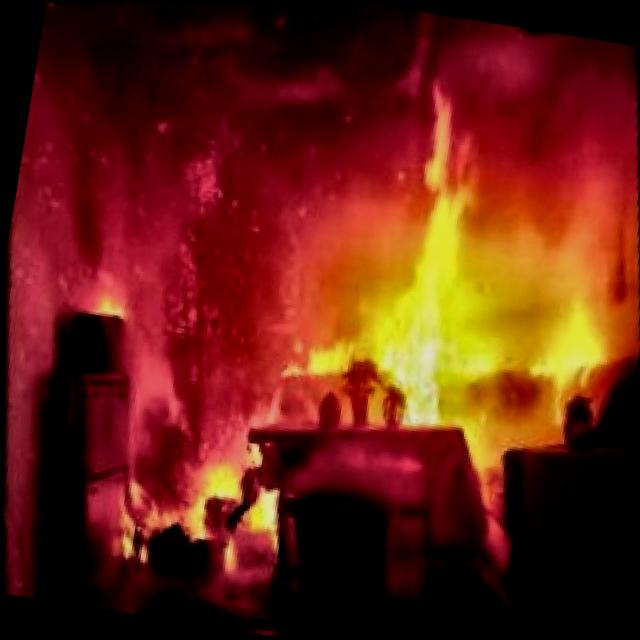fire: (177, 3, 640, 524)
